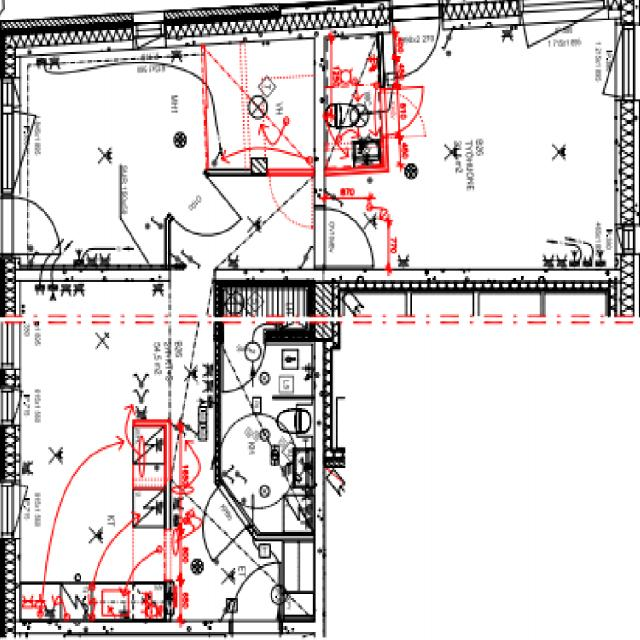door: (170, 176, 236, 256), (186, 482, 251, 561), (390, 0, 442, 83), (0, 197, 67, 255), (232, 561, 280, 635), (315, 209, 371, 264), (223, 331, 264, 390), (385, 82, 431, 134), (0, 197, 20, 253)
